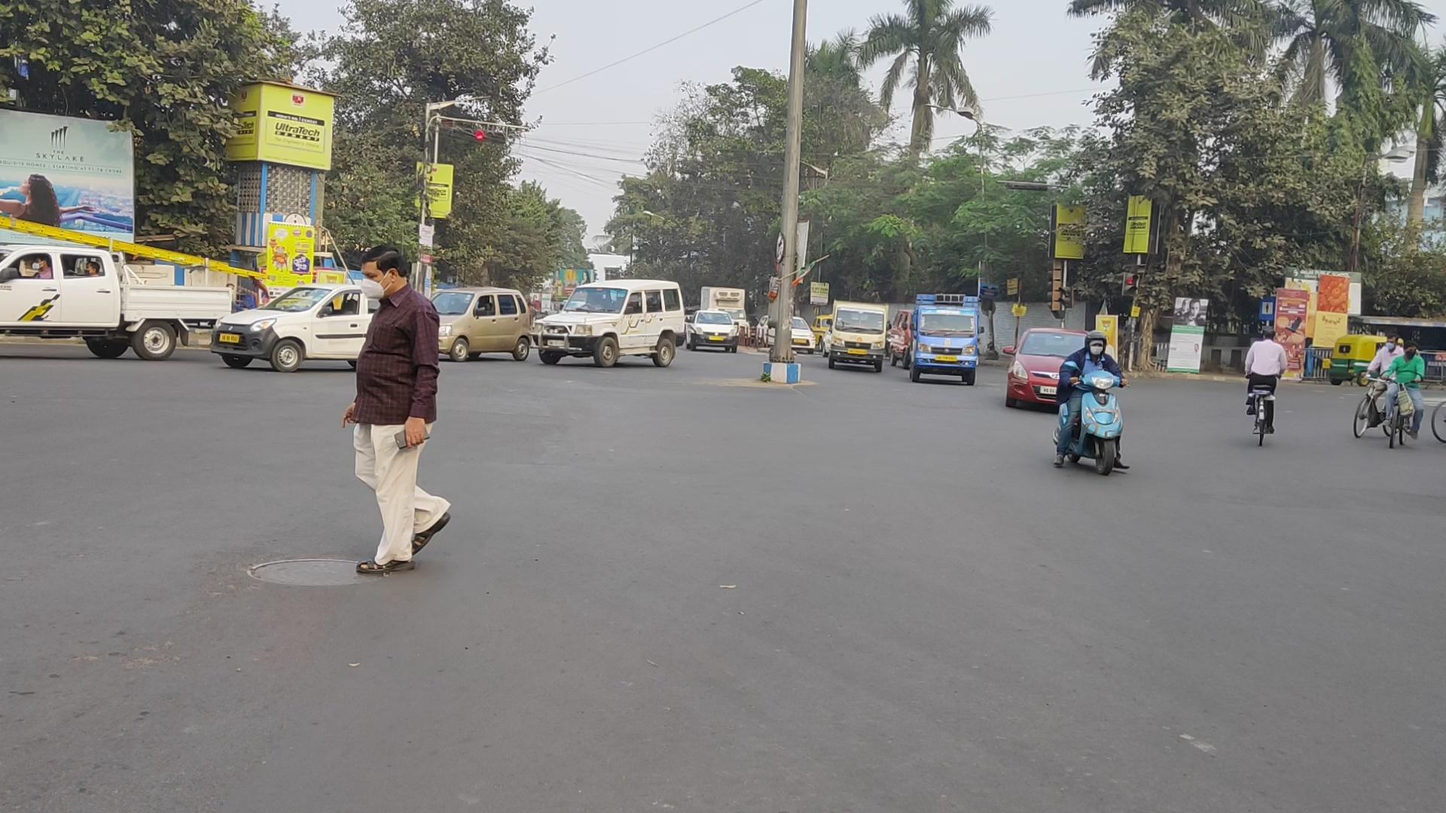Auto: (1329, 333, 1411, 388)
bike: (1054, 330, 1131, 476), (1353, 334, 1408, 439), (1245, 327, 1289, 447), (1380, 340, 1426, 450)
car: (211, 283, 425, 373), (530, 279, 686, 368), (1003, 327, 1119, 413), (417, 287, 533, 362), (755, 315, 816, 354), (686, 309, 740, 353), (888, 309, 914, 370)
van: (1, 215, 233, 362), (908, 293, 984, 387), (828, 300, 889, 373), (700, 285, 750, 343)
